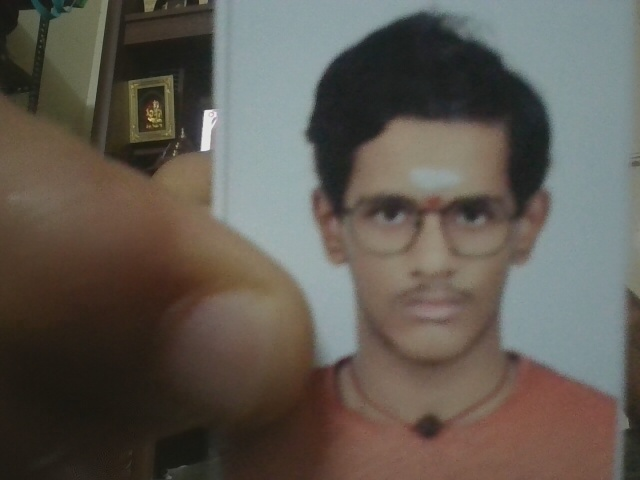fake: (300, 115, 562, 377)
